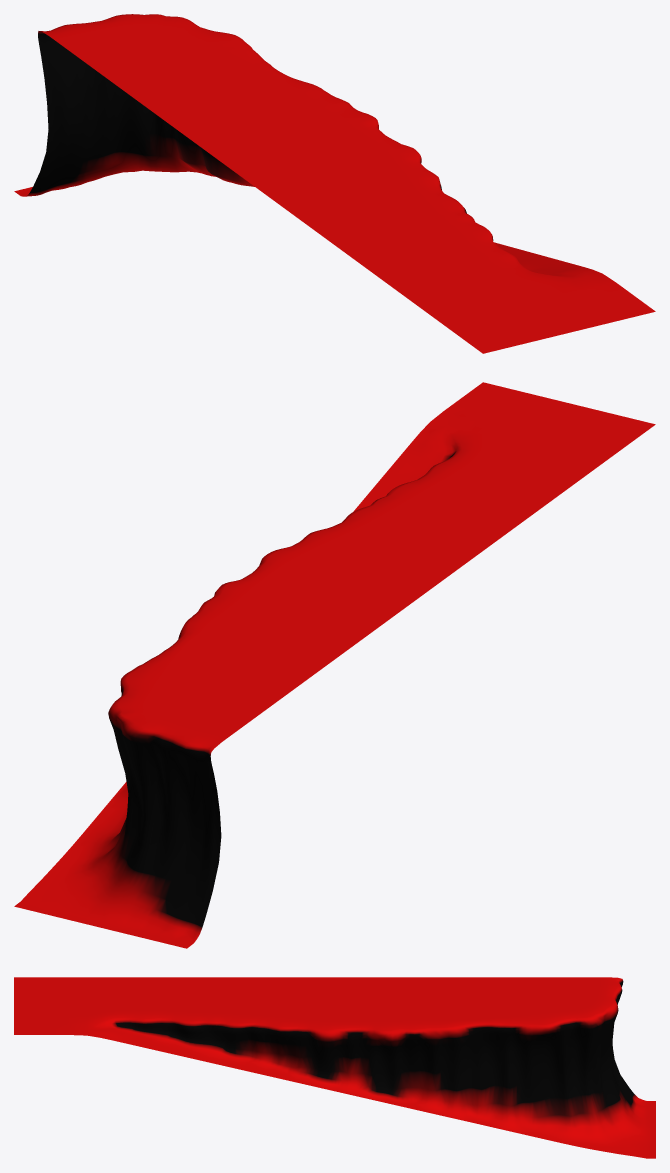
The model's file is ClimbCliff01D 2M Foreground.fbx.
The picture shows the model from 3 angles, top to bottom: view 1: azimuth 30°, elevation 25°; view 2: azimuth 150°, elevation 25°; view 3: azimuth 270°, elevation 25°; orthographic projection. The views are drawn at different scales.
Parts seen in each view (by area): view 1: ClimbCliff01D 2M Foreground; view 2: ClimbCliff01D 2M Foreground; view 3: ClimbCliff01D 2M Foreground.
Part boxes in pixels (left/top/right/bottom): ClimbCliff01D 2M Foreground: left=14, top=14, right=655, bottom=353; ClimbCliff01D 2M Foreground: left=14, top=382, right=655, bottom=948; ClimbCliff01D 2M Foreground: left=14, top=977, right=655, bottom=1158.
Size of the model in its own units: 2 by 2 by 9.4.
